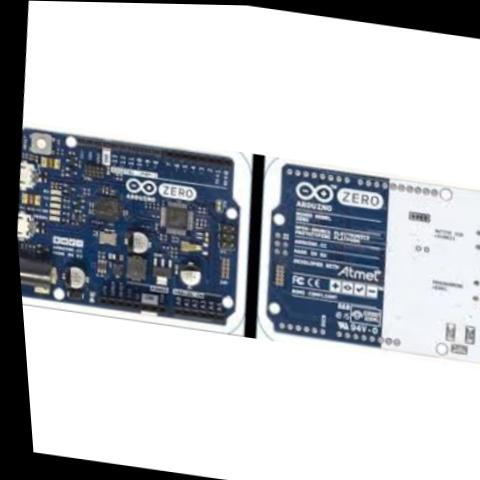Arduino-Zero: (7, 120, 257, 332), (245, 153, 480, 369)
